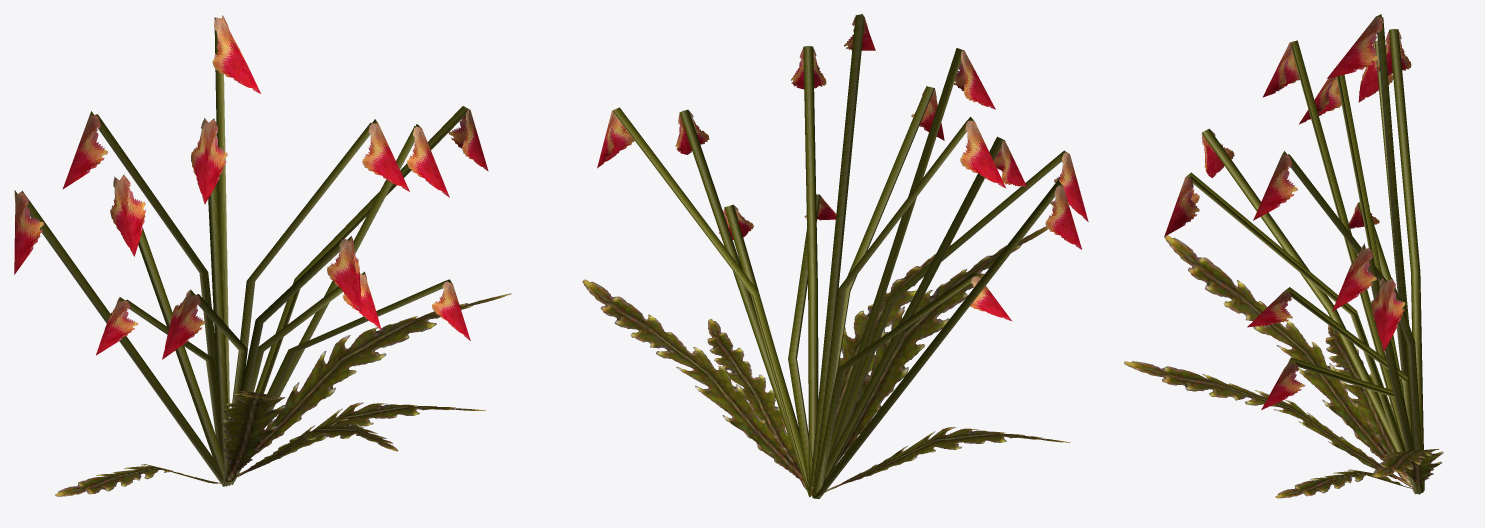
The model's file is Flower.obj.
The picture shows the model from 3 angles, left to right: view 1: azimuth 30°, elevation 25°; view 2: azimuth 150°, elevation 25°; view 3: azimuth 270°, elevation 25°; orthographic projection. The views are drawn at different scales.
Bounding box in the file's own units: 16.38 × 15.05 × 10.35.
Materials: 3 (3 with a texture image).
